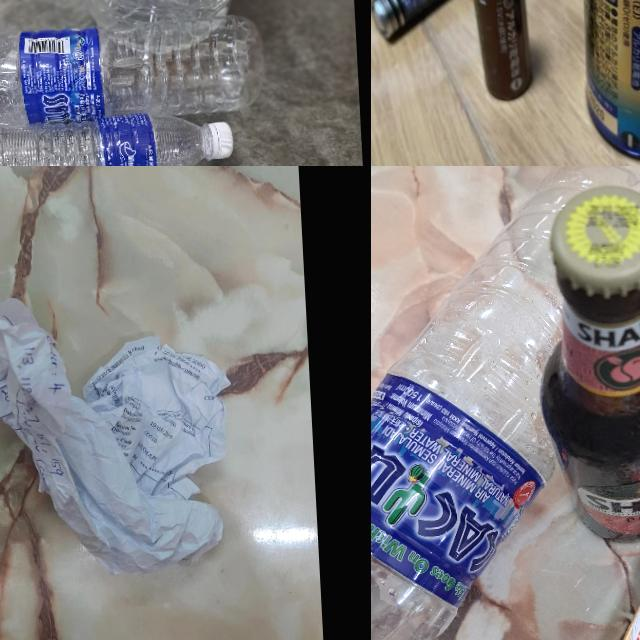bateria: (567, 0, 640, 166), (455, 0, 535, 107), (371, 0, 488, 40)
garrafa de vidro: (531, 186, 640, 542)
garrafa plástica: (371, 166, 640, 640), (0, 15, 265, 129), (74, 0, 302, 54), (0, 109, 215, 166)
papel: (0, 277, 234, 577)
tampa plástica: (212, 122, 235, 160)
